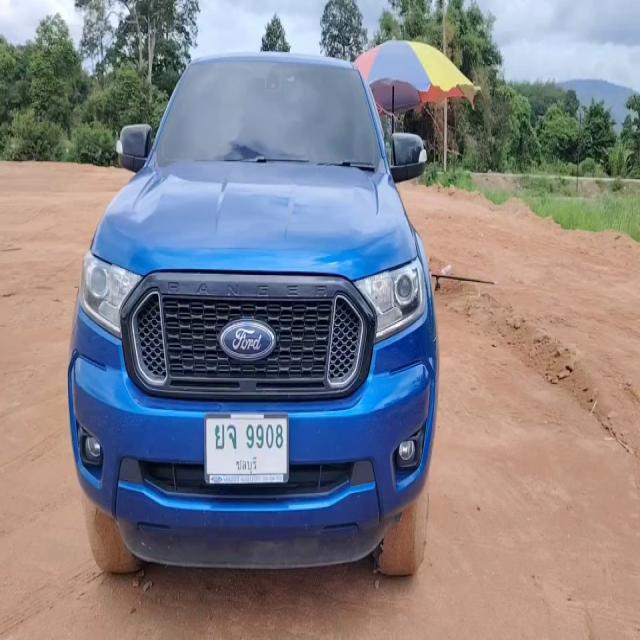Digit: (245, 422, 284, 452)
Licenseplate: (206, 415, 287, 482)
Provincename: (235, 454, 258, 474)
Thaichar: (214, 423, 237, 452)
